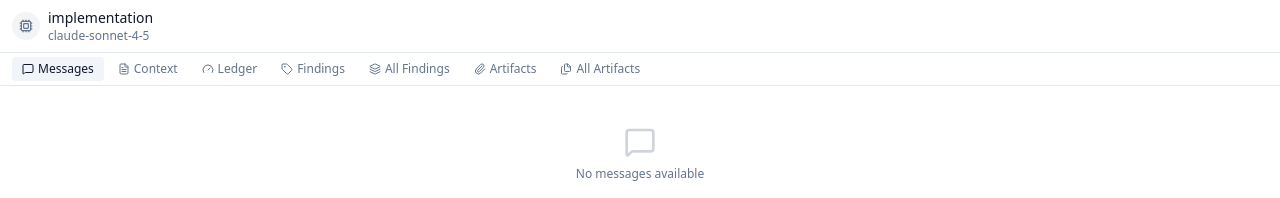
Scenario: AgentLogDetail - Findings tab › clicking Findings tab renders FindingsPanel empty state
Click the button "Findings". click: (313, 69)
box: top-left (271, 57), bottom-right (355, 81)
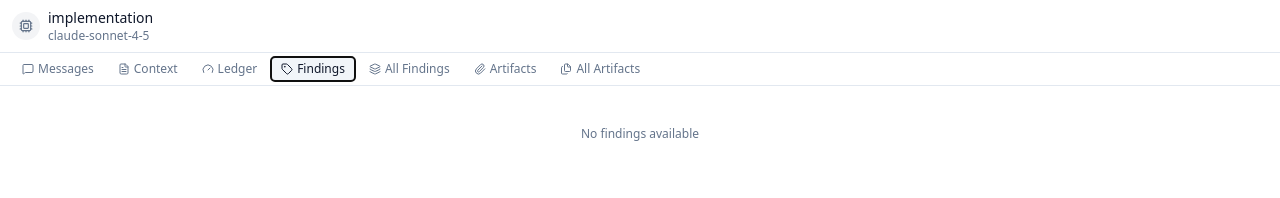
Result: the text "No findings available" is shown at top-left (581, 126), bottom-right (699, 142)
